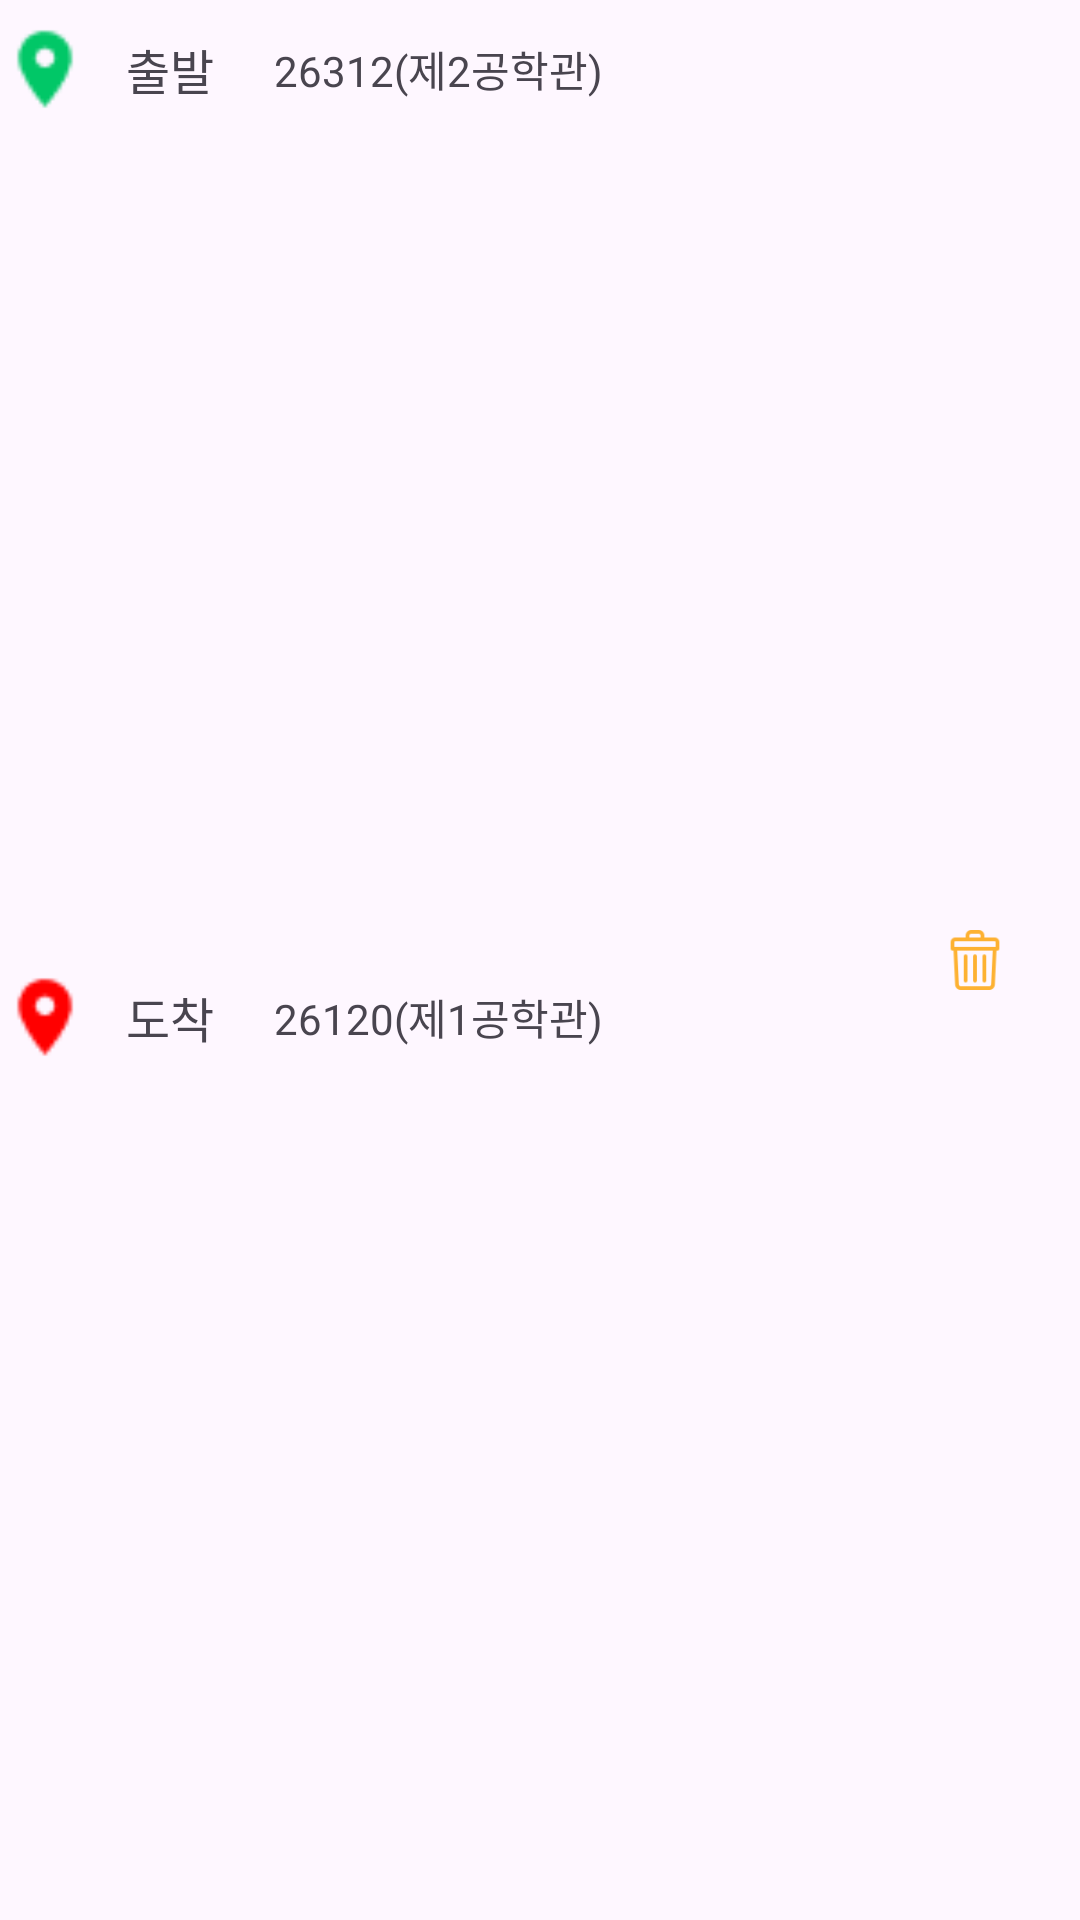

Icons on this 1080w x 1920h Android screen, each with its box as (x1, y1, x2, y2):
endpoint: (17, 978, 73, 1056)
startpoint: (17, 30, 73, 108)
trash: (950, 930, 1000, 990)
